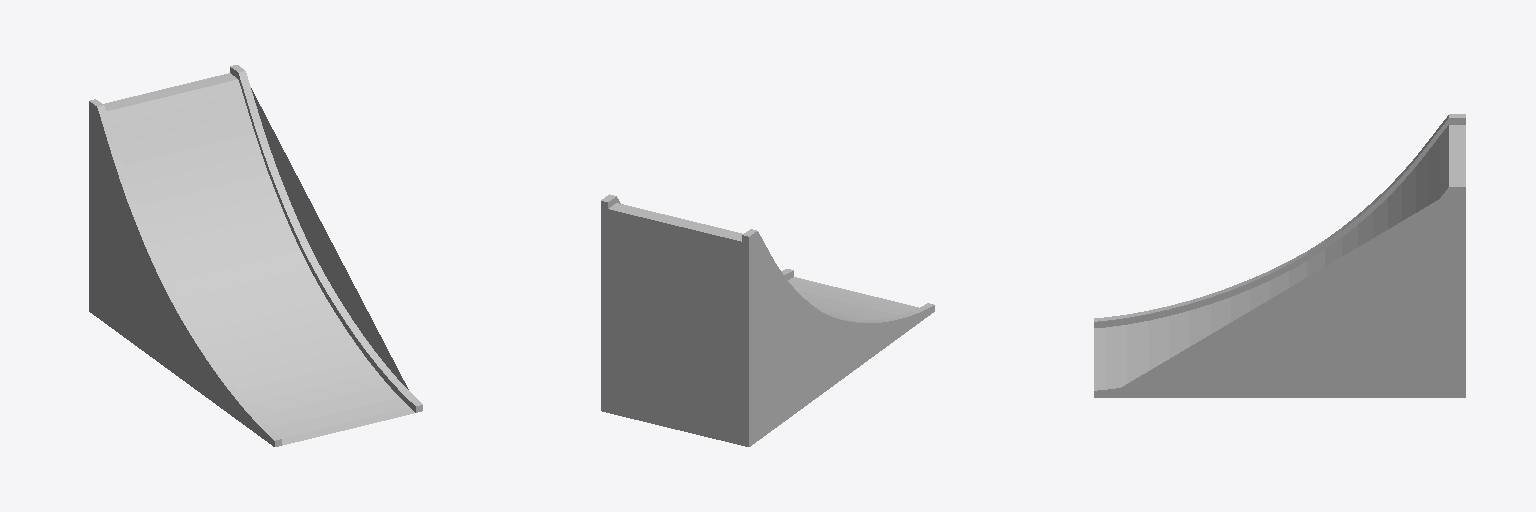
The model's file is Rampa_A2-2.obj.
The picture shows the model from 3 angles: view 1: azimuth 30°, elevation 25°; view 2: azimuth 150°, elevation 25°; view 3: azimuth 270°, elevation 25°; orthographic projection.
Visible parts, largest first — view 1: Rampa_A2-2_Cube.019; view 2: Rampa_A2-2_Cube.019; view 3: Rampa_A2-2_Cube.019.
Part boxes in pixels (x1,y1,x2,y2): Rampa_A2-2_Cube.019: (89, 65, 422, 446); Rampa_A2-2_Cube.019: (601, 194, 934, 446); Rampa_A2-2_Cube.019: (1094, 114, 1465, 397).
Bounding box in the file's own units: 2 × 2.71 × 4.34.